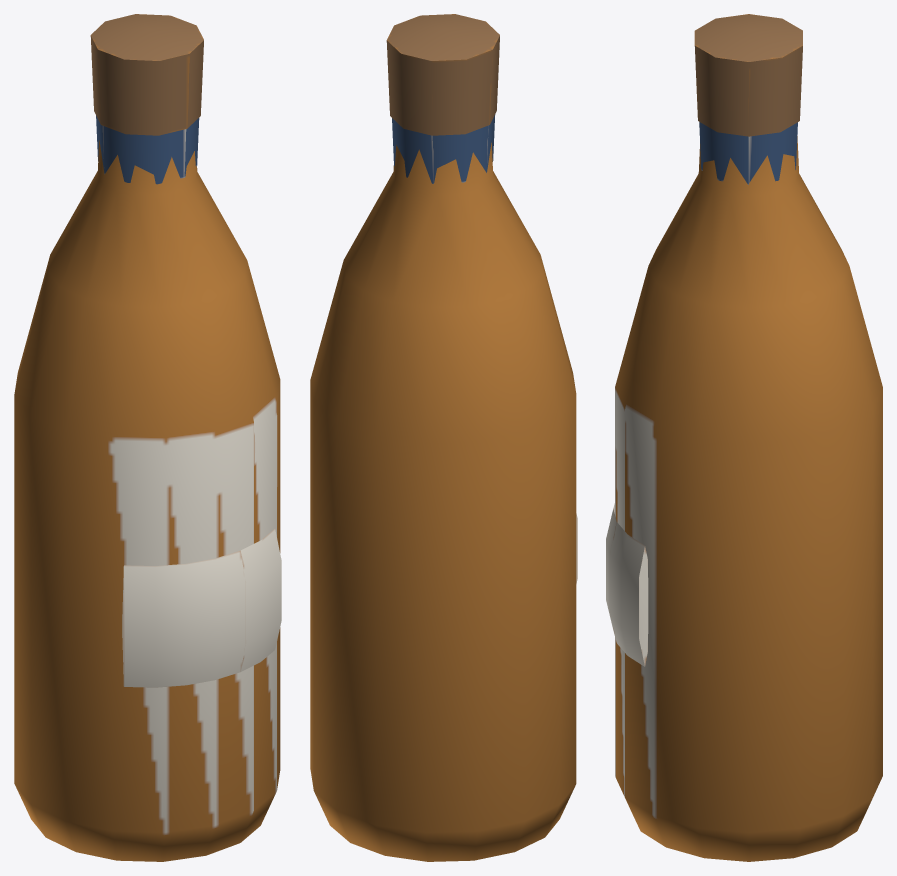
Rendered from bouteille.glb.
3 views of the same model, side by side, from view 1: azimuth 30°, elevation 25°; view 2: azimuth 150°, elevation 25°; view 3: azimuth 270°, elevation 25° (orthographic).
Visible parts, largest first — view 1: jus-de-pomme, lait; view 2: jus-de-pomme, lait; view 3: jus-de-pomme, lait.
Boxes of the visible parts, x1=… form: jus-de-pomme: x1=14, y1=14, x2=281, y2=861; lait: x1=96, y1=115, x2=199, y2=184; jus-de-pomme: x1=310, y1=14, x2=577, y2=861; lait: x1=392, y1=114, x2=495, y2=183; jus-de-pomme: x1=606, y1=14, x2=882, y2=861; lait: x1=699, y1=122, x2=797, y2=184.
Bounding box in the file's own units: 0.0868 × 0.28 × 0.0897.
1 material, 1 textured.
